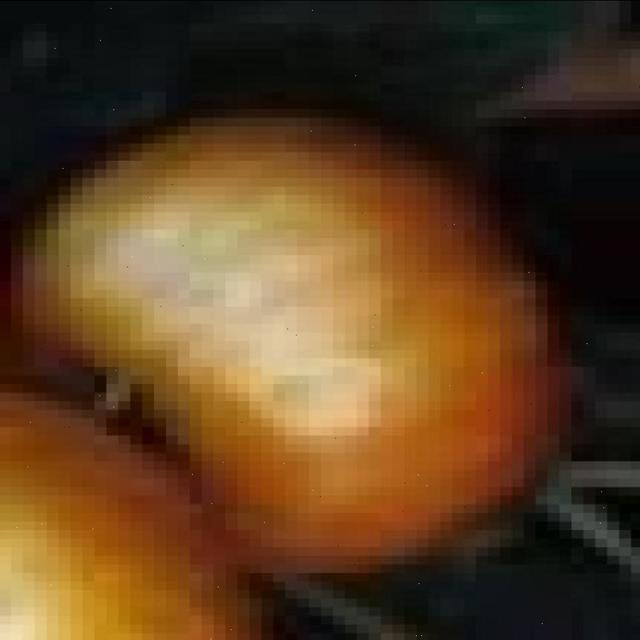Sunscald Fruit: (31, 124, 270, 302)
